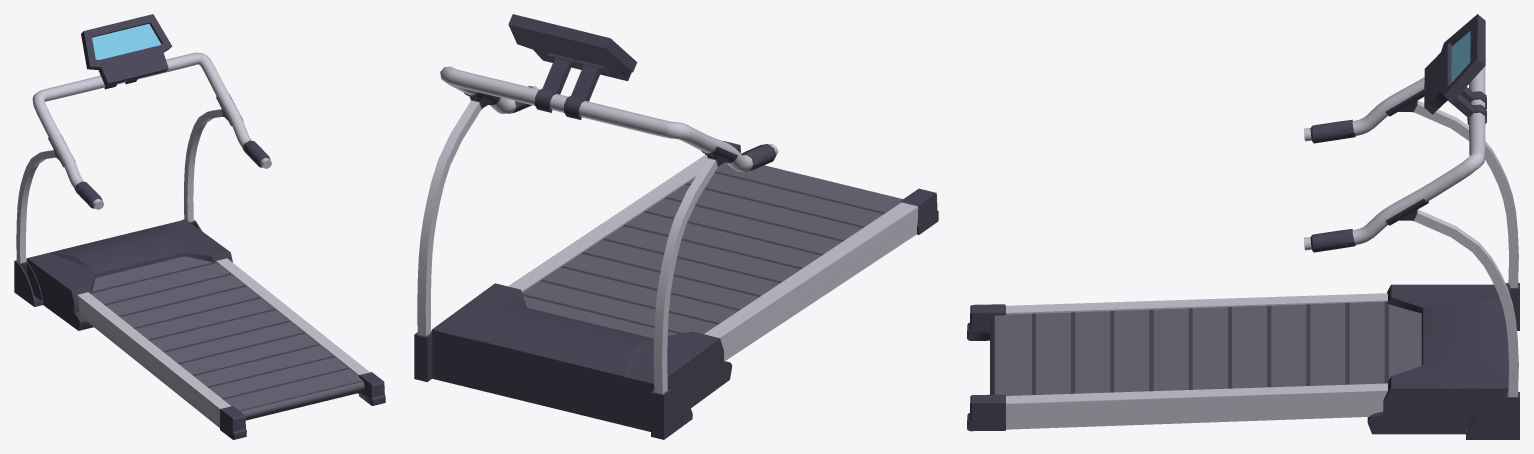
File: Threadmil_00.fbx
3 renders of one model, left to right at view 1: azimuth 30°, elevation 25°; view 2: azimuth 150°, elevation 25°; view 3: azimuth 270°, elevation 25°, orthographic. The views are drawn at different scales.
Parts seen in each view (by area): view 1: Threadmil_00; view 2: Threadmil_00; view 3: Threadmil_00.
Part boxes in pixels (x1,y1,x2,y2): Threadmil_00: [14, 14, 385, 439]; Threadmil_00: [414, 14, 938, 439]; Threadmil_00: [967, 14, 1519, 439].
Size of the model in its own units: 142 by 196 by 283.
Materials: 1 (1 with a texture image).
